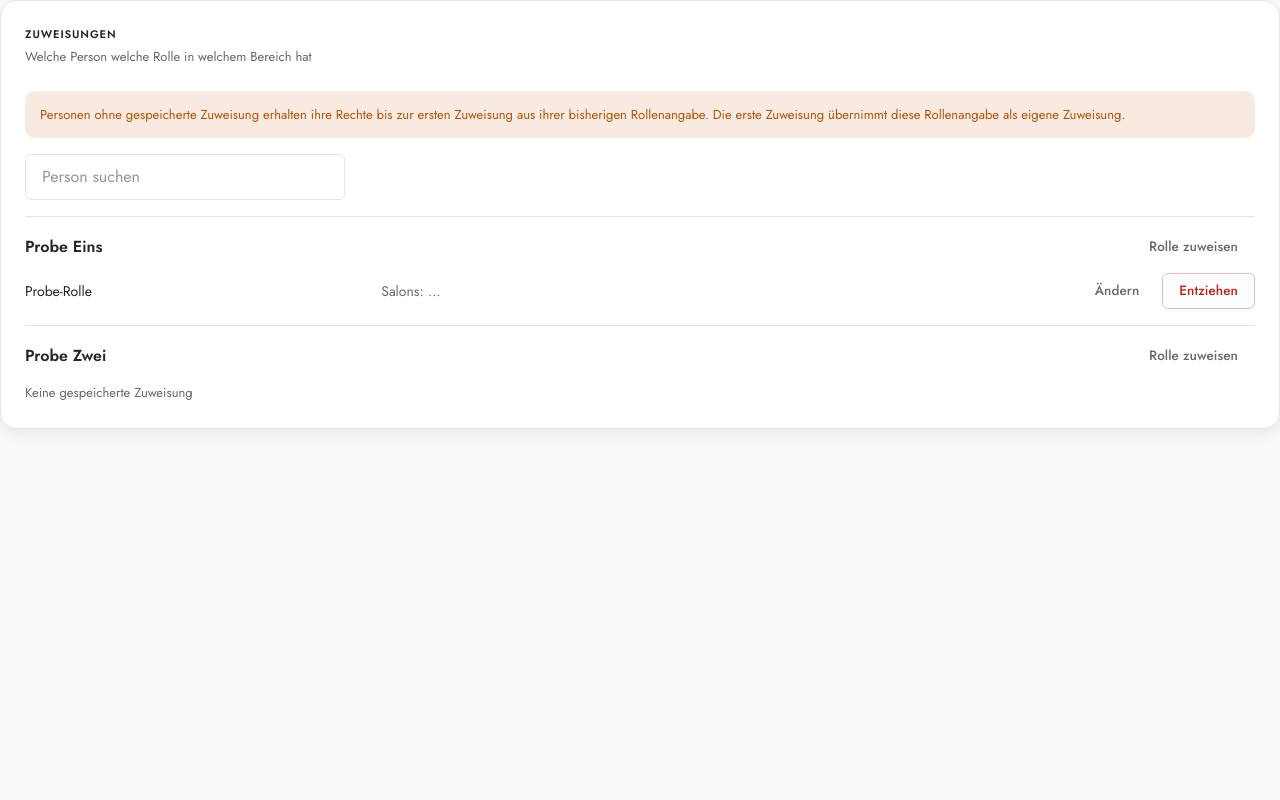
Scenario: AssignmentsTab (Issue #83) › before the salon context has loaded, no stored salon is marked inactive and save waits
Expected: the text "Probe Eins" is shown, [25,234,102,260]
Click the button "Ändern" at (1117,291), box [1078,273,1156,309]
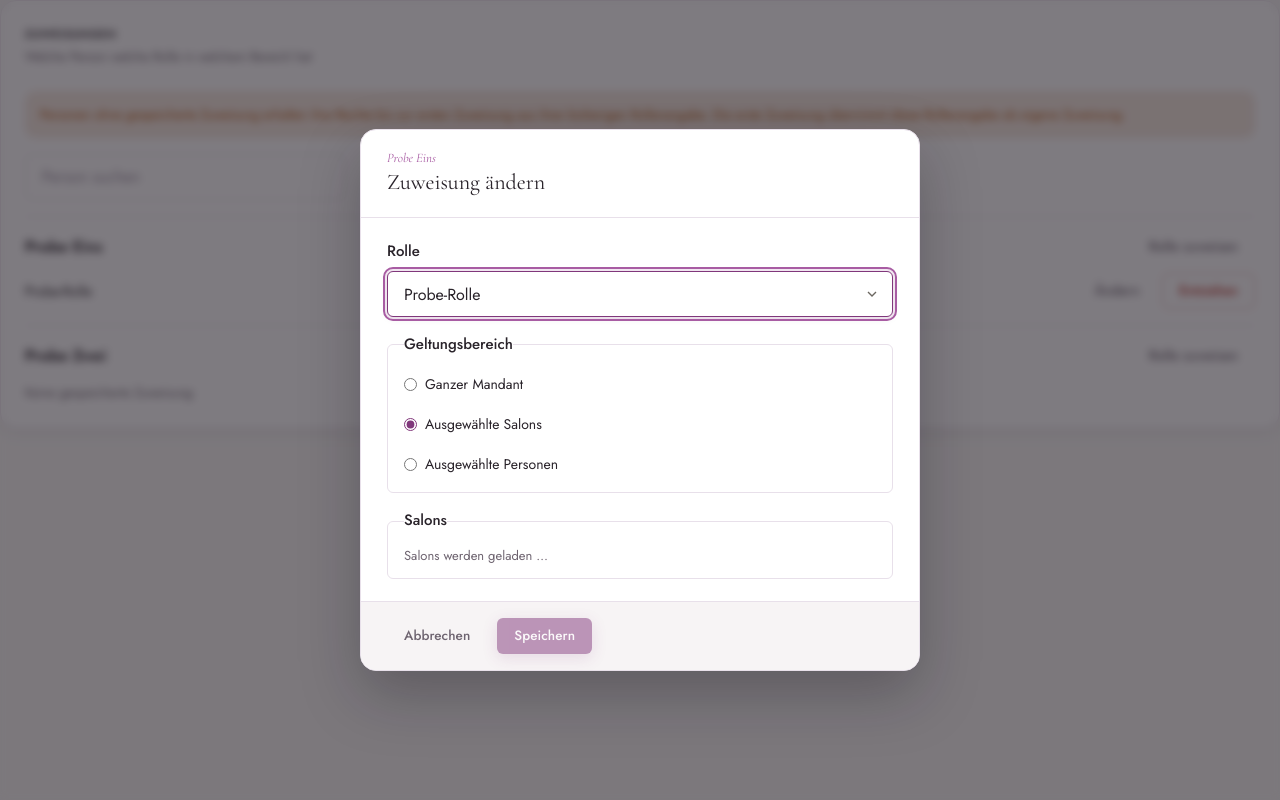
Expected: the text "Salons werden geladen …" is shown, [404,546,548,565]
Expected: the button "Speichern" is disabled, [497,618,592,654]
